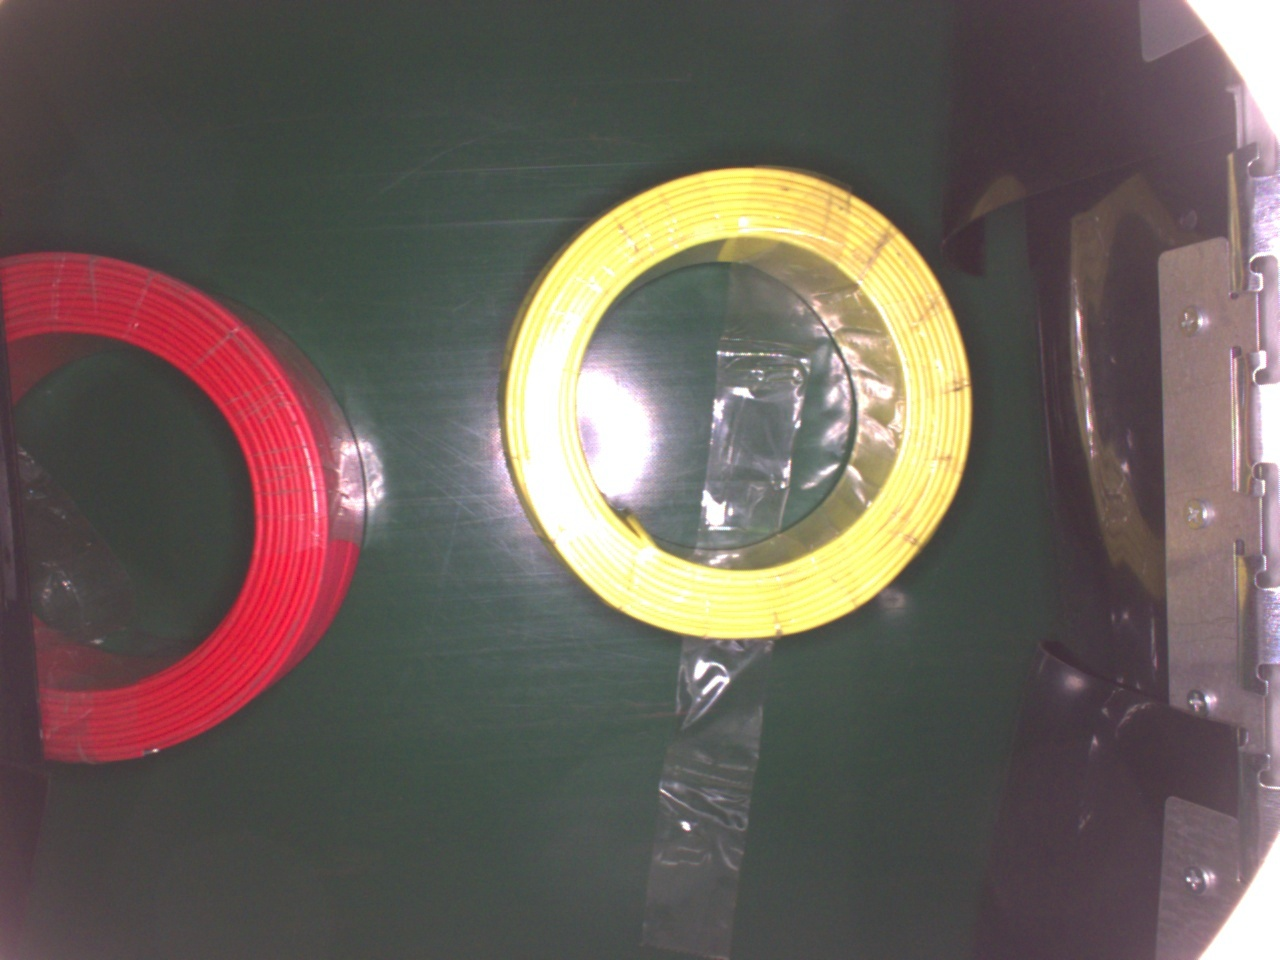red: (0, 248, 366, 767)
yellow: (496, 161, 968, 647)
